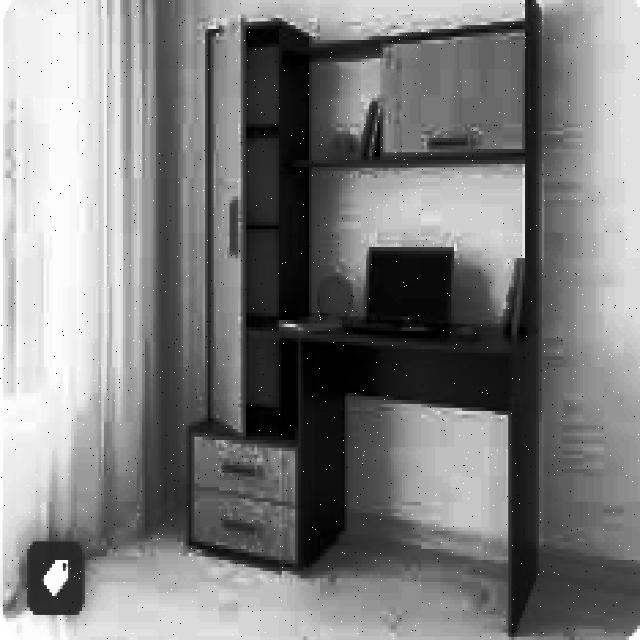table: (249, 309, 536, 633)
